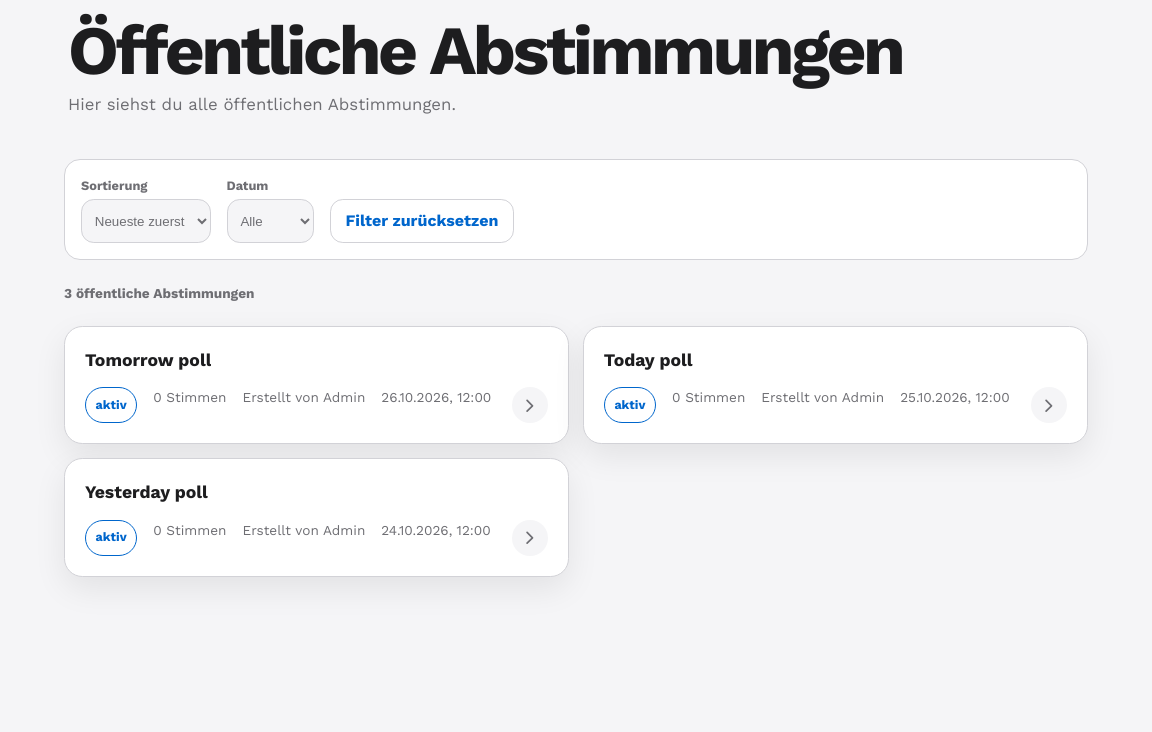
Test: PollsPage › defaults to all polls and supports yesterday, today, tomorrow, and custom dates
expect the link "Today poll" is shown: met, box [583,326,1088,444]
expect the link "Yesterday poll" is shown: met, box [64,458,569,577]
Select "Gestern" in the dropdown labelled "Datum" at (270, 222), box [227,200,314,244]
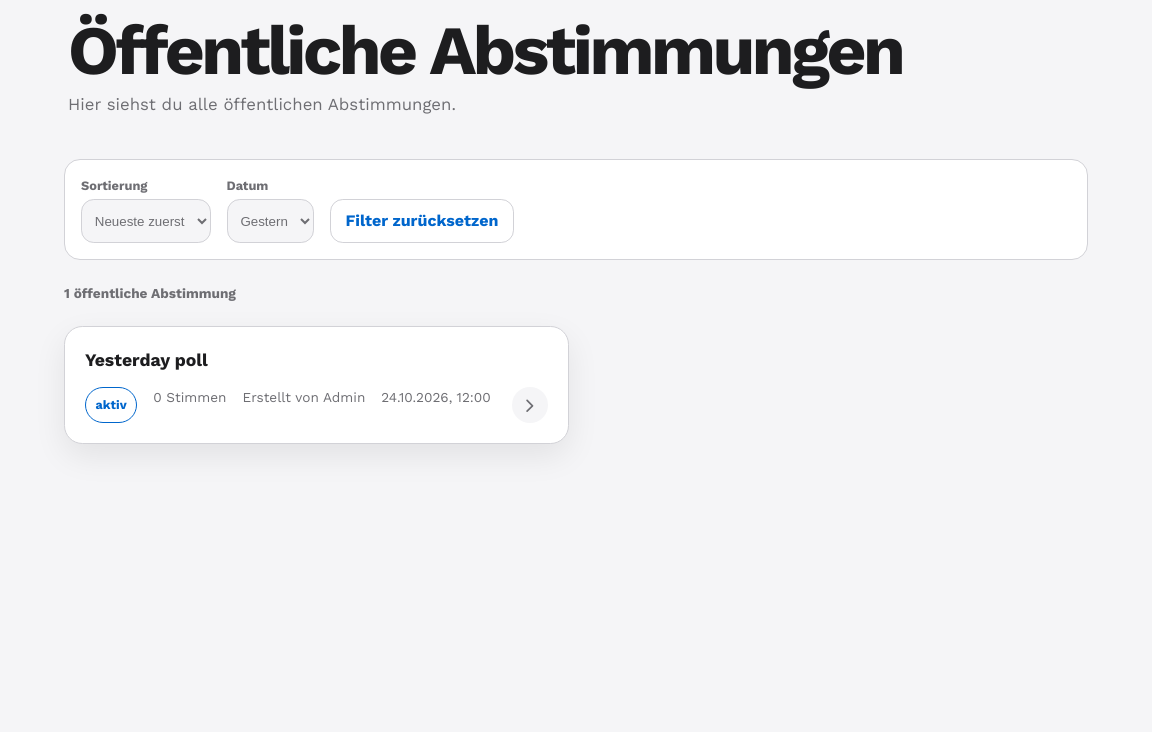
expect the link "Yesterday poll" is shown: met, box [64,326,569,444]
expect the link "Today poll" is gone: met
Select "Morgen" in the dropdown labelled "Datum" at (270, 222), box [227,200,314,244]
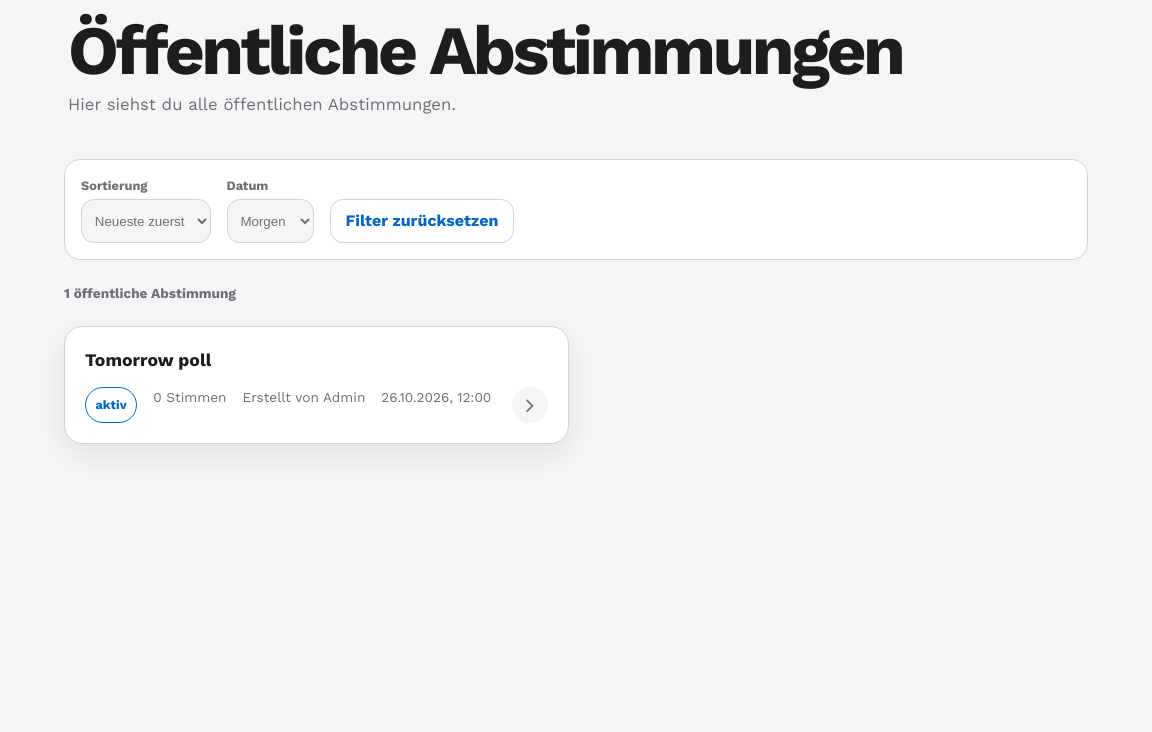
expect the link "Tomorrow poll" is shown: met, box [64,326,569,444]
expect the link "Yesterday poll" is gone: met
Select "Datum" in the dropdown labelled "Datum" at (270, 222), box [227,200,314,244]
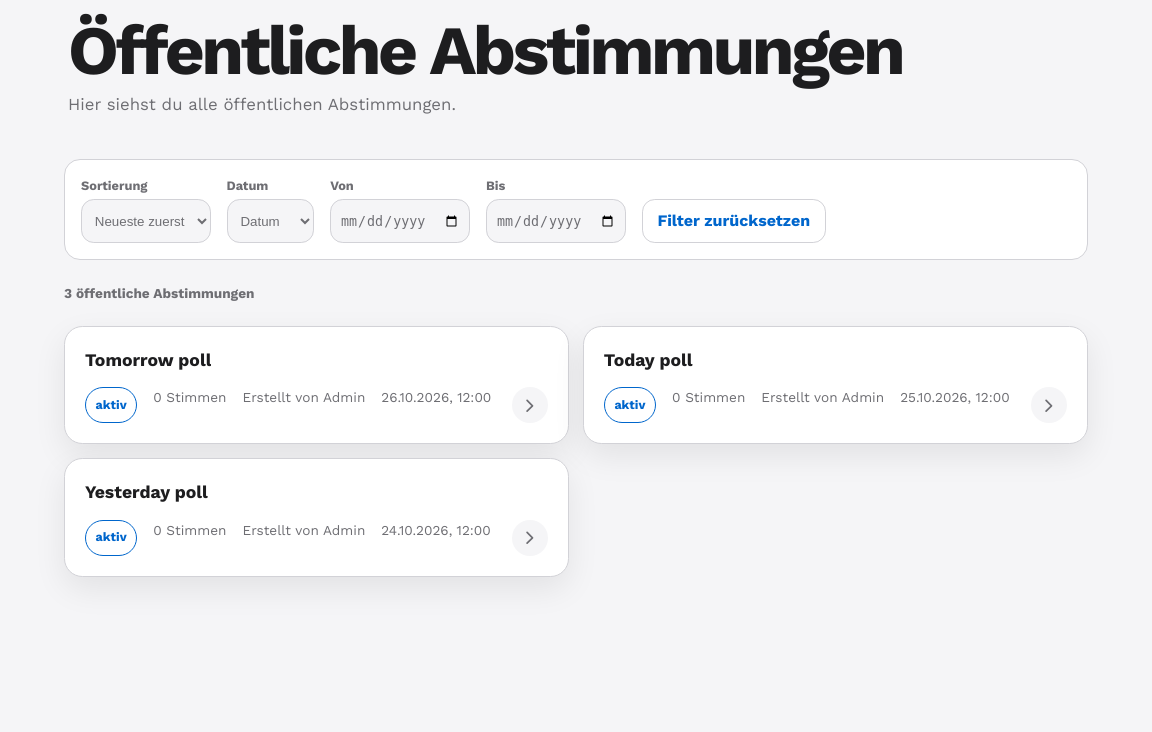
expect the date field labelled "Von" is shown: met, box [330,200,470,244]
expect the date field labelled "Bis" is shown: met, box [486,200,626,244]
